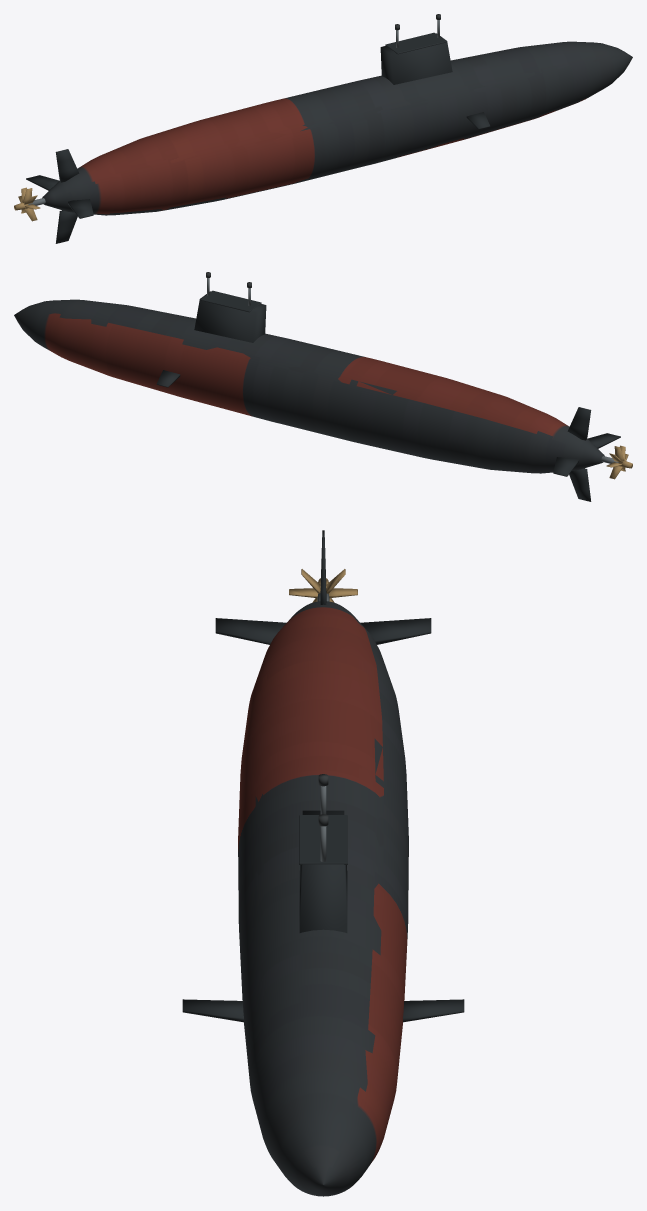
The model's file is US_SSN_Skipjack_LOD1.fbx.
3 renders of one model, top to bottom at view 1: azimuth 30°, elevation 25°; view 2: azimuth 150°, elevation 25°; view 3: azimuth 270°, elevation 25°, orthographic. The views are drawn at different scales.
Visible parts, largest first — view 1: US_SSN_Skipjack_LOD1; view 2: US_SSN_Skipjack_LOD1; view 3: US_SSN_Skipjack_LOD1.
Part boxes in pixels (x1,y1,x2,y2): US_SSN_Skipjack_LOD1: [14, 14, 632, 243]; US_SSN_Skipjack_LOD1: [14, 272, 632, 501]; US_SSN_Skipjack_LOD1: [182, 530, 464, 1196].
Bounding box in the file's own units: 80.46 × 15.9 × 16.84.
6 materials, 1 textured.
